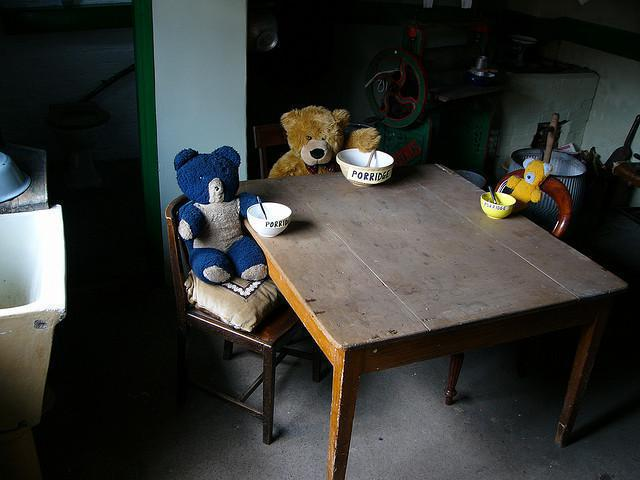Lavaplatos: (0, 199, 64, 439)
